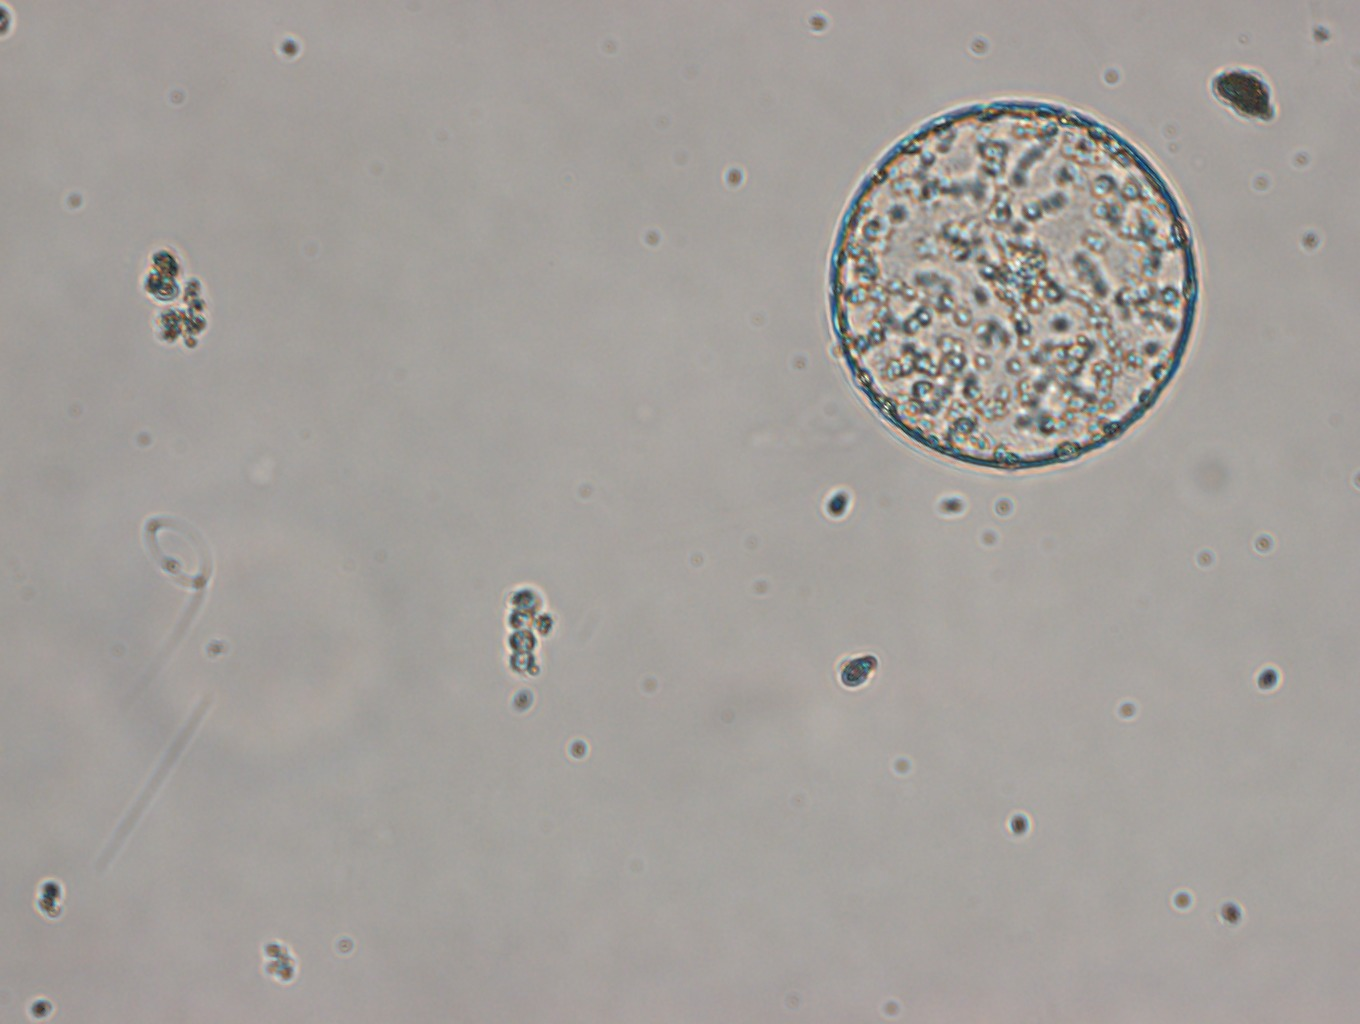coscinodiscus: (826, 95, 1201, 477)
